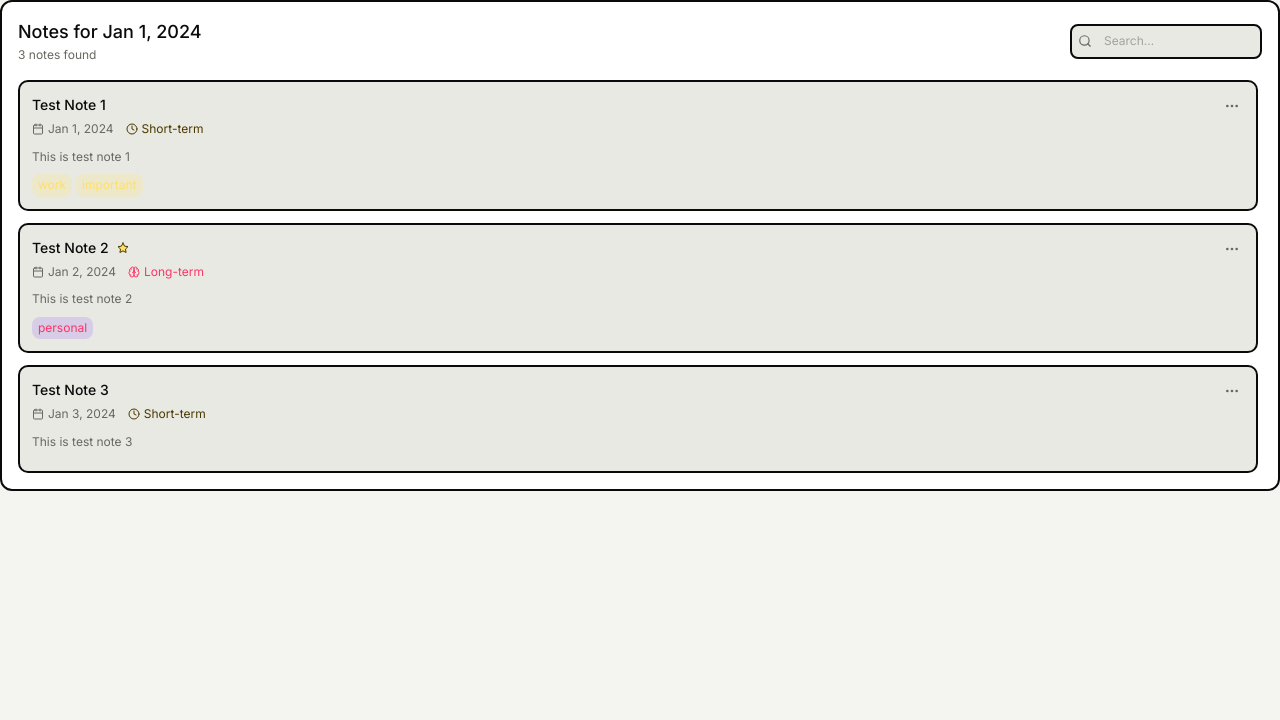
it: NotesList Component › Search Functionality › should show all notes when search is cleared
This screenshot has width=1280, height=720.
Type "Test Note 1" into the field with placeholder "Search..." at [1166, 41], box [1070, 24, 1262, 58]
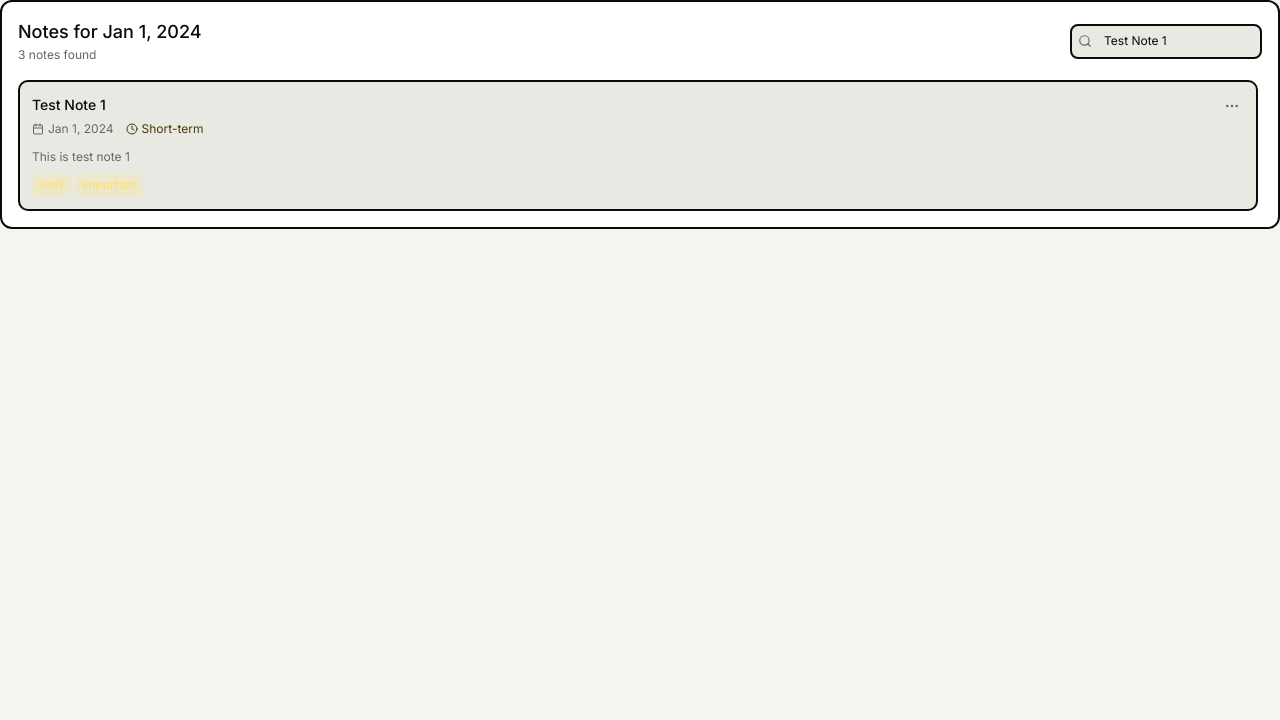
Clear the field with placeholder "Search..." at [1166, 41], box [1070, 24, 1262, 58]
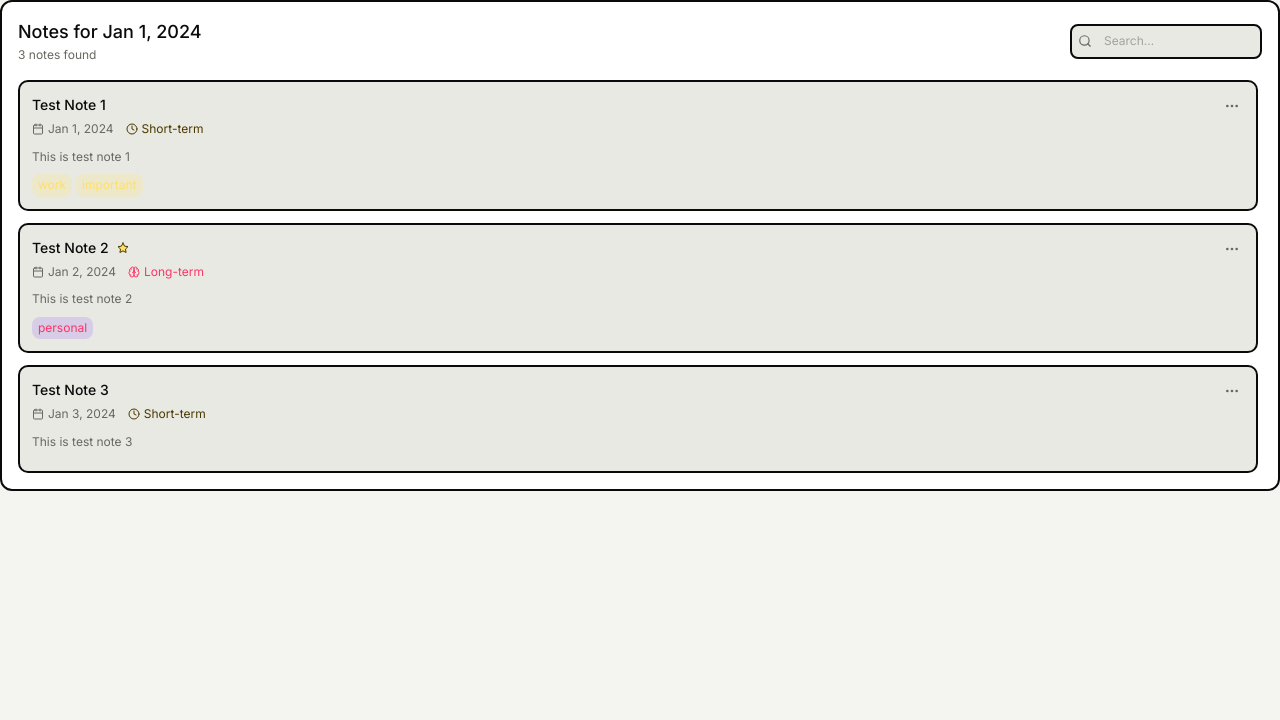
Expected: the heading "Test Note 1" is shown, [32, 94, 106, 116]
Expected: the heading "Test Note 2" is shown, [32, 237, 109, 259]
Expected: the heading "Test Note 3" is shown, [32, 379, 109, 401]
